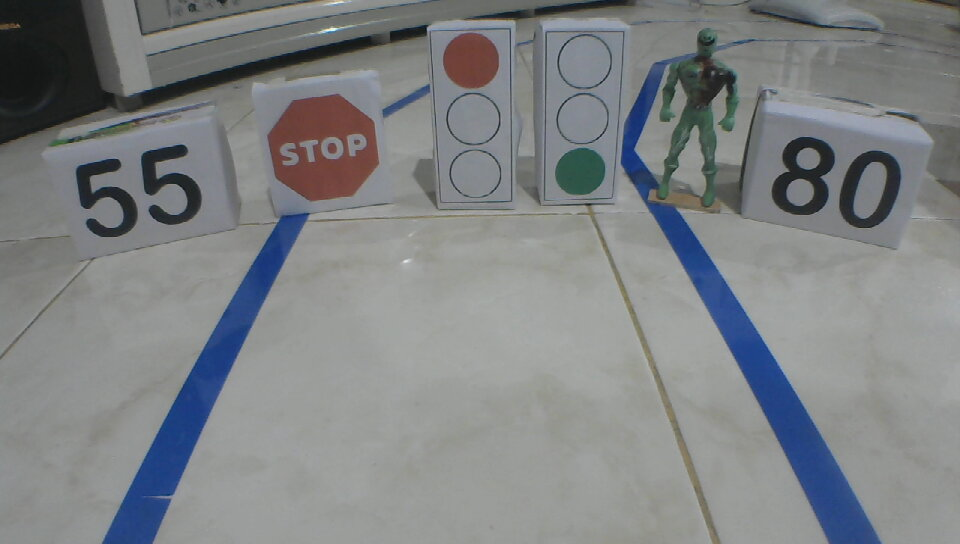Green Light: (554, 32, 614, 199)
Person: (656, 25, 740, 208)
Red Light: (438, 29, 508, 201)
Speed 55: (70, 141, 204, 238)
Speed 80: (766, 132, 905, 234)
Stop: (266, 93, 380, 204)
